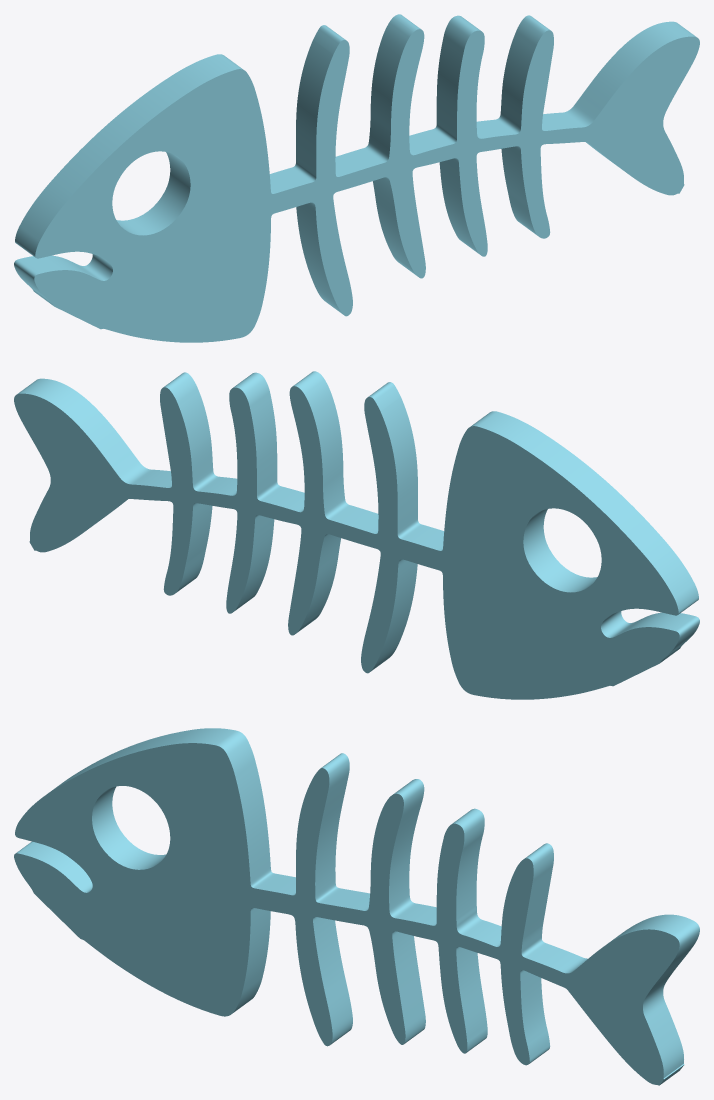
Rendered from ffish.fbx.
The picture shows the model from 3 angles, top to bottom: view 1: azimuth 30°, elevation 25°; view 2: azimuth 150°, elevation 25°; view 3: azimuth 330°, elevation 25°; orthographic projection.
Parts seen in each view (by area): view 1: Curve; view 2: Curve; view 3: Curve.
Boxes of the visible parts, x1,y1,x2,y2 form: Curve: (14, 14, 699, 342); Curve: (14, 371, 699, 699); Curve: (14, 728, 699, 1085).
Bounding box in the file's own units: 971 × 386 × 51.39.
